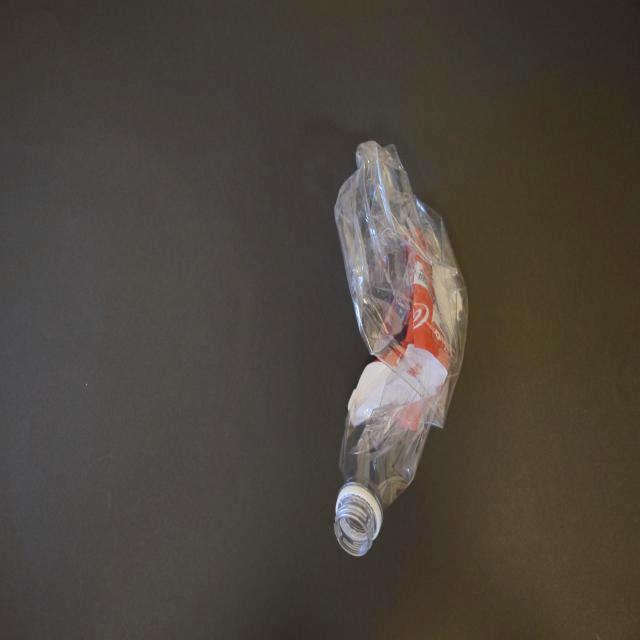bottle: (333, 140, 470, 557)
